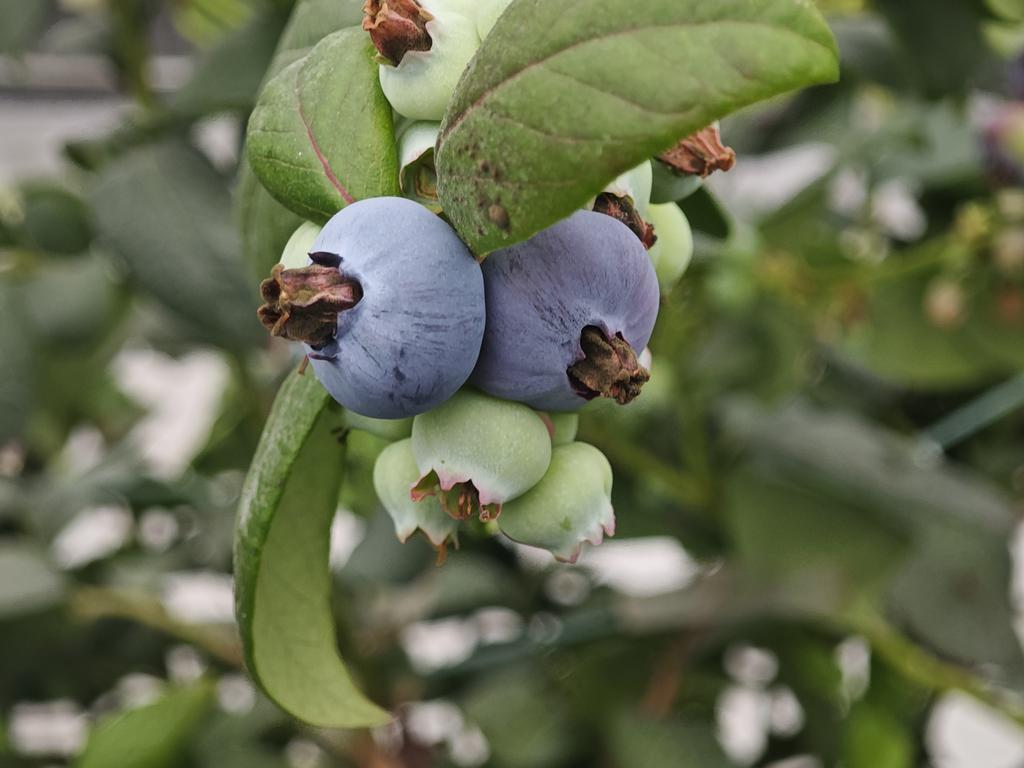RipeBlueBerry: (273, 172, 492, 424), (469, 198, 686, 423)
